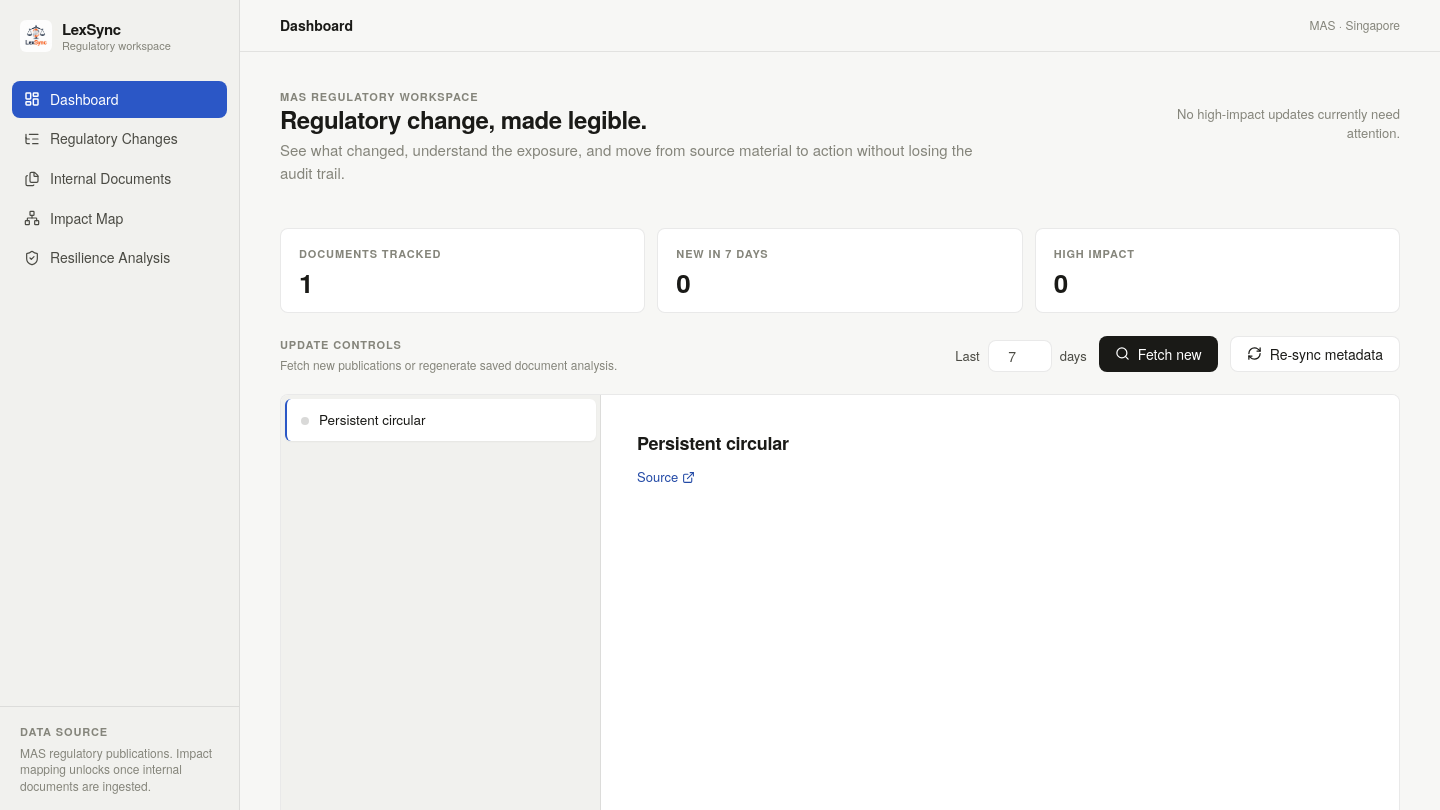
switches views without discarding loaded update state
The image size is (1440, 810).
Step 1. Click the button "Resilience Analysis" → [120, 258], box [12,239,227,277]
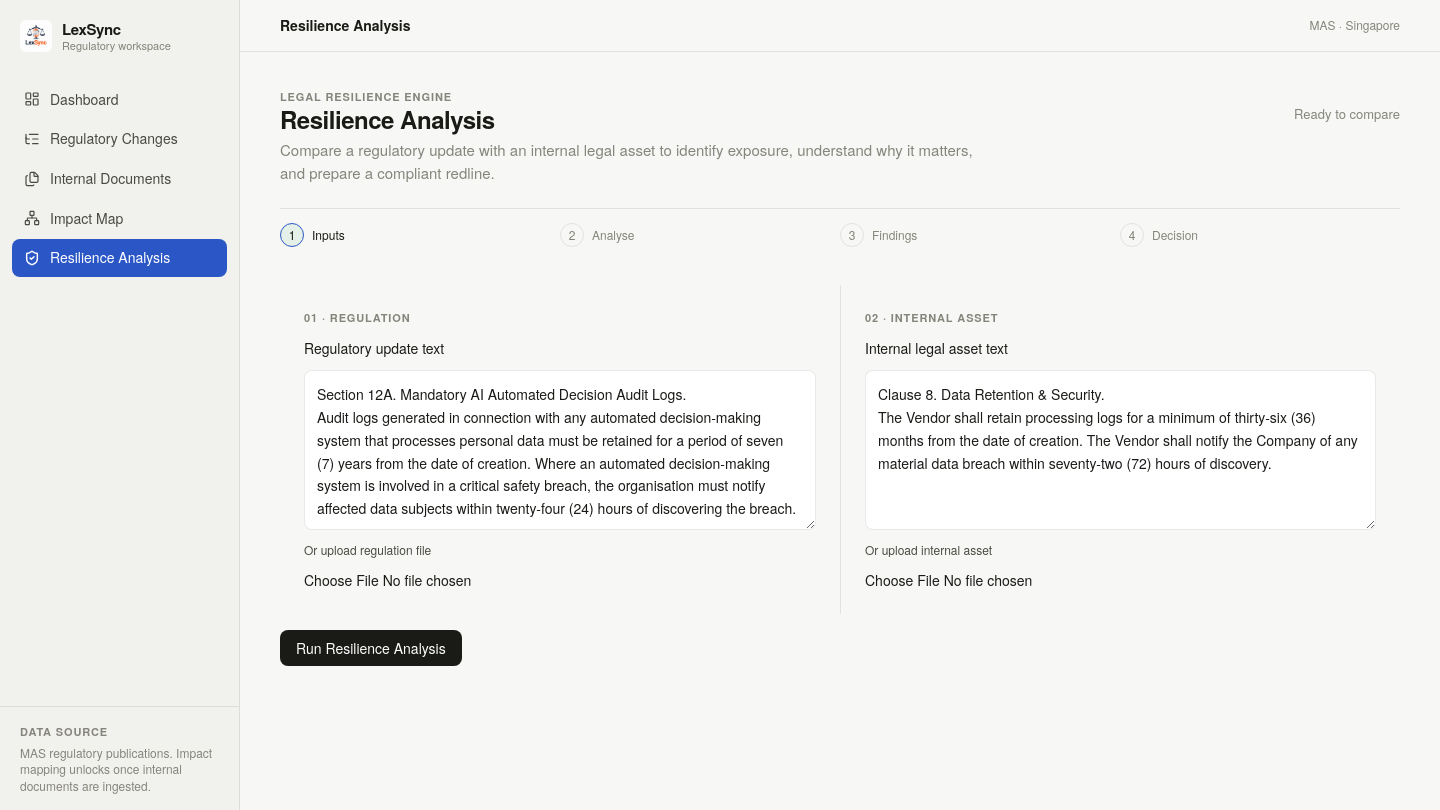
Now the heading "Resilience Analysis" is shown, box [280,102,495,136]
Step 2. Click the button "Dashboard" → [120, 99], box [12,80,227,118]
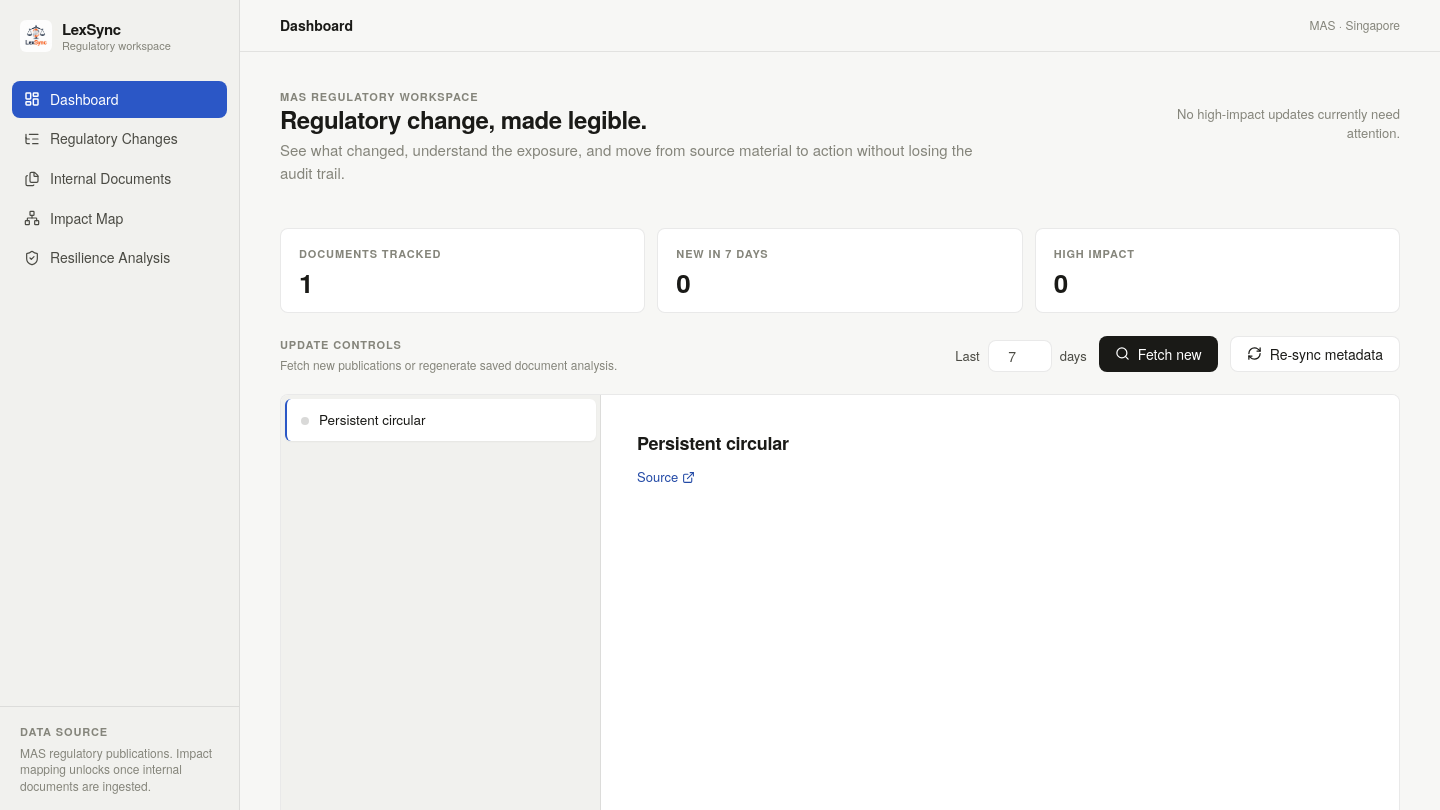
Now the text "Persistent circular" is shown, box [319,410,426,429]
